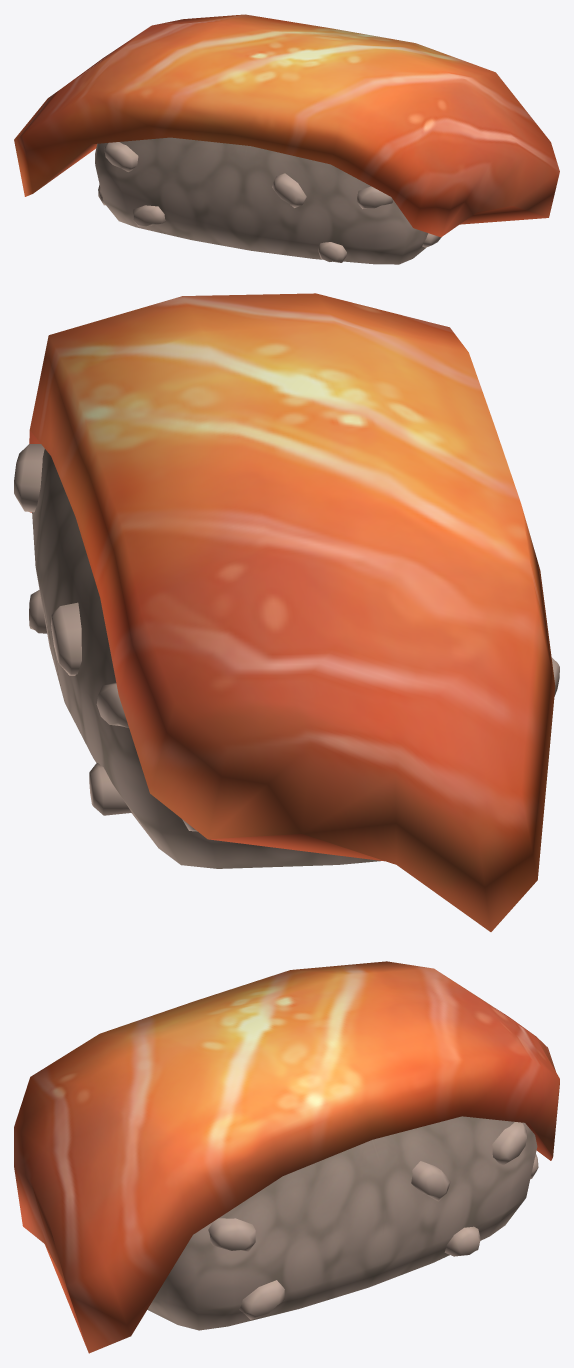
The model's file is Nigiri_Sake_Free.fbx.
3 renders of one model, top to bottom at view 1: azimuth 30°, elevation 25°; view 2: azimuth 150°, elevation 25°; view 3: azimuth 270°, elevation 25°, orthographic. The views are drawn at different scales.
Parts seen in each view (by area): view 1: Nigiri_Sake_Free; view 2: Nigiri_Sake_Free; view 3: Nigiri_Sake_Free.
Boxes of the visible parts, <box> form: Nigiri_Sake_Free: <box>14,14,559,264</box>; Nigiri_Sake_Free: <box>14,293,559,931</box>; Nigiri_Sake_Free: <box>14,961,559,1353</box>.
Bounding box in the file's own units: 14.66 × 6.33 × 13.57.
